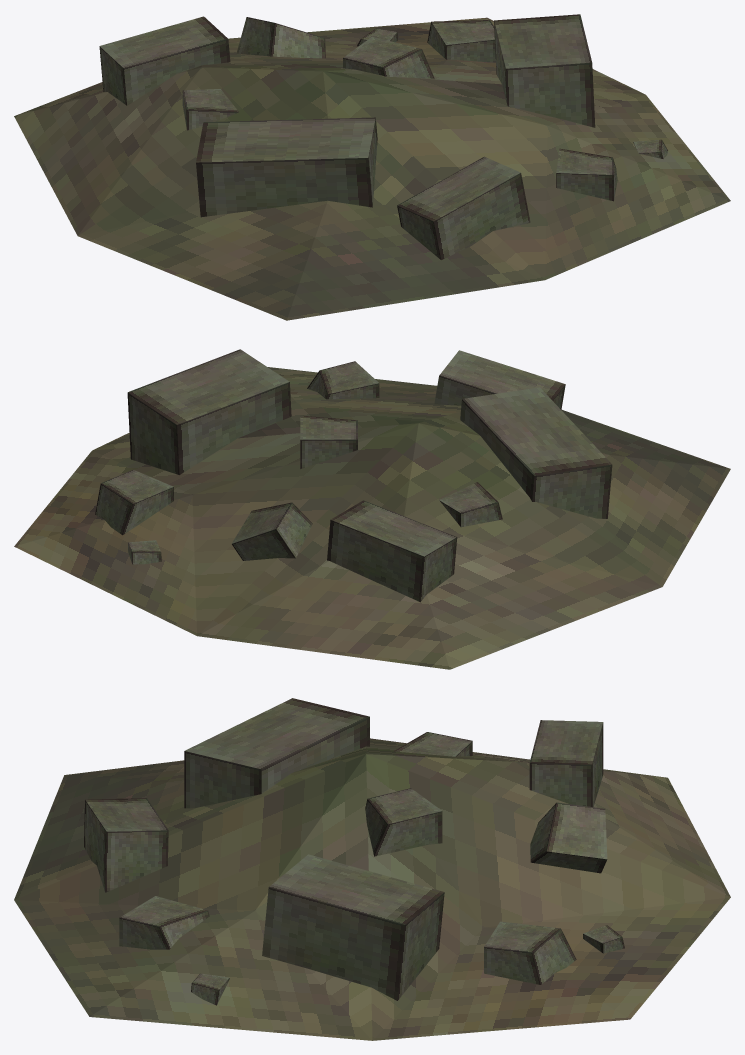
Rendered from debris.glb.
3 views of the same model, one above another, from view 1: azimuth 30°, elevation 25°; view 2: azimuth 150°, elevation 25°; view 3: azimuth 270°, elevation 25° (orthographic). The views are drawn at different scales.
Parts seen in each view (by area): view 1: Cylinder.029; view 2: Cylinder.029; view 3: Cylinder.029.
Boxes of the visible parts, x1,y1,x2,y2 form: Cylinder.029: (14,14,730,320); Cylinder.029: (14,349,730,669); Cylinder.029: (14,698,730,1040).
Size of the model in its own units: 2.28 by 0.4038 by 2.28.
1 material, 1 textured.
